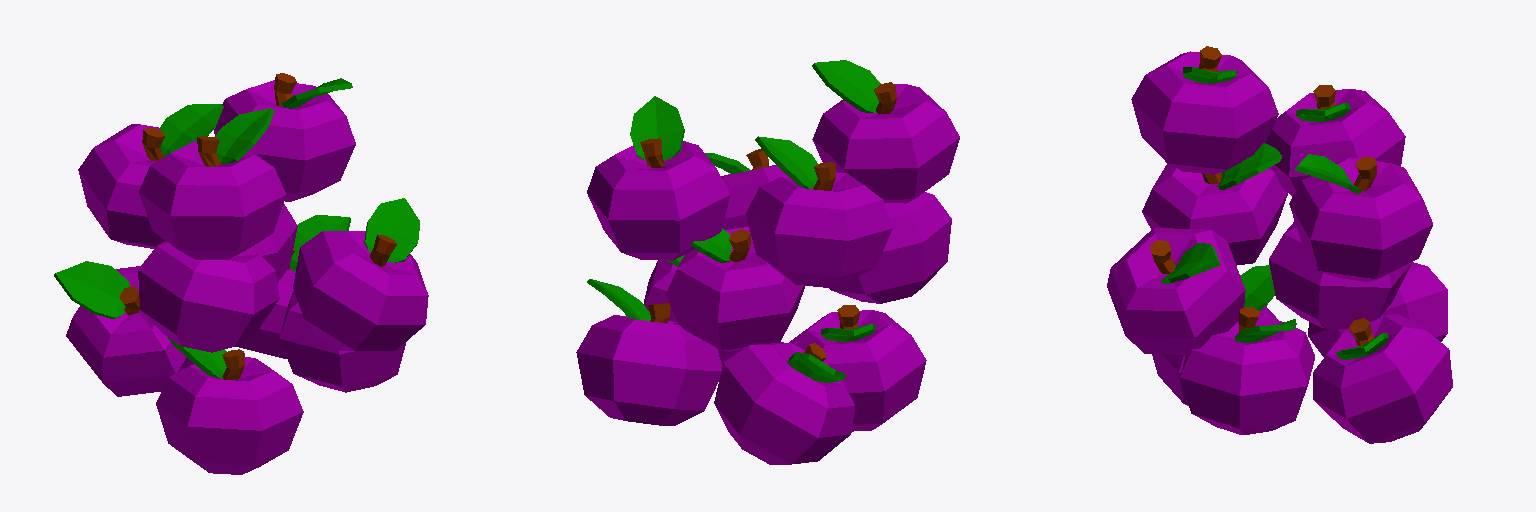
File: berry_cluster.obj
The picture shows the model from 3 angles: view 1: azimuth 30°, elevation 25°; view 2: azimuth 150°, elevation 25°; view 3: azimuth 270°, elevation 25°; orthographic projection.
Parts seen in each view (by area): view 1: Plane.011; view 2: Plane.011; view 3: Plane.011.
Boxes of the visible parts, <box> form: Plane.011: <box>54,73,428,474</box>; Plane.011: <box>576,60,959,464</box>; Plane.011: <box>1107,46,1452,443</box>.
Size of the model in its own units: 1.42 by 1.71 by 1.54.